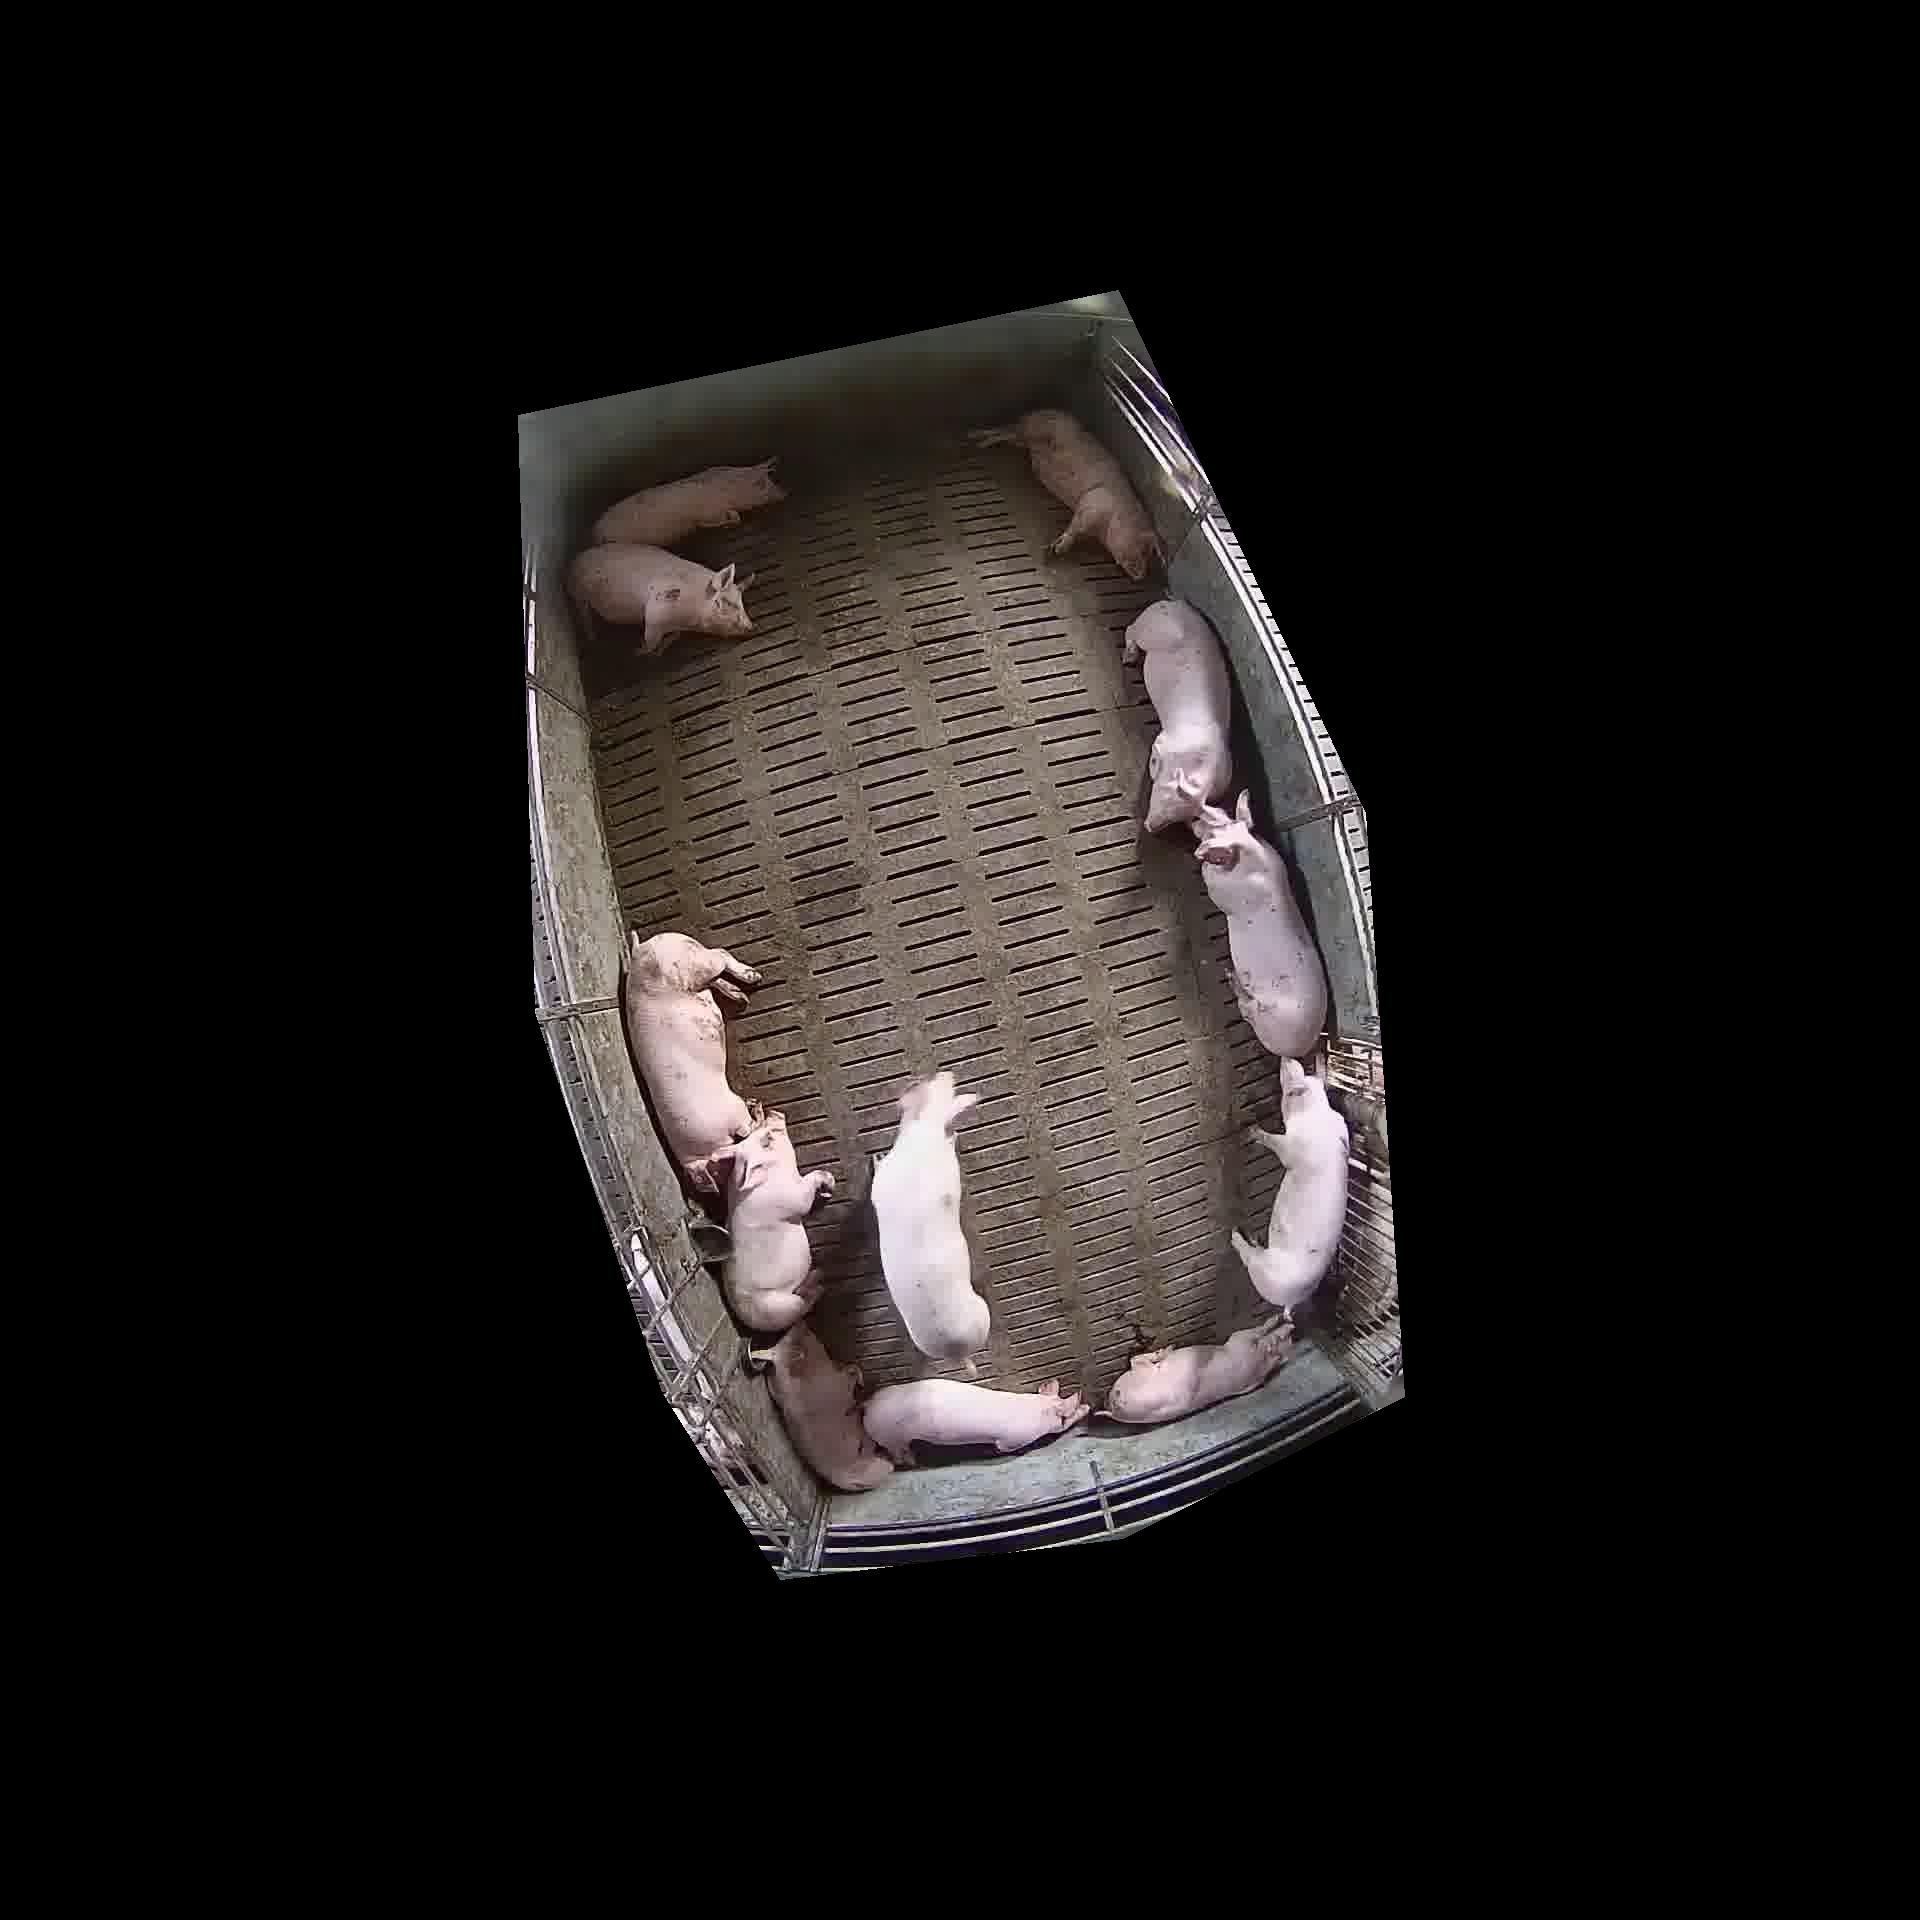pig: (1192, 793, 1327, 1057), (624, 934, 758, 1192), (870, 1071, 988, 1361), (971, 410, 1160, 578), (1233, 1058, 1349, 1312), (1125, 600, 1231, 832), (723, 1111, 833, 1331), (767, 1322, 893, 1491), (1106, 1313, 1292, 1422), (566, 543, 751, 652), (863, 1378, 1088, 1461), (593, 461, 784, 547)
